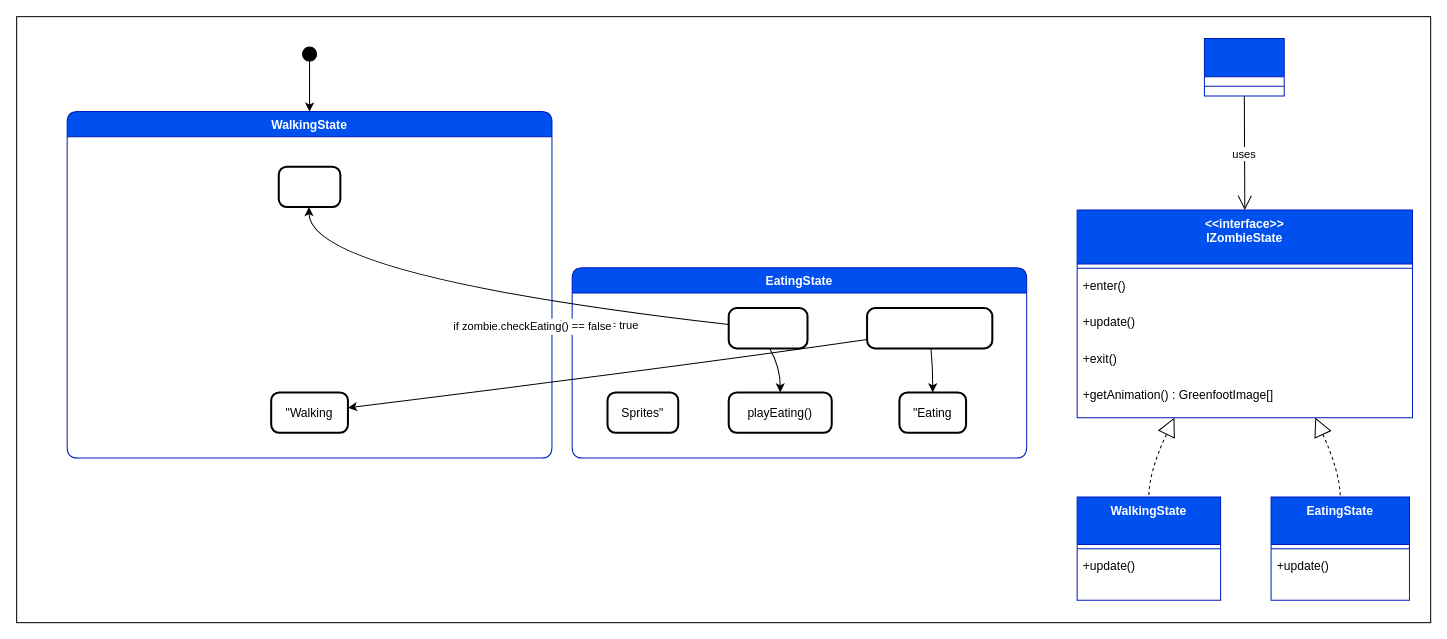
This 1447x639 diagram has some shape labels left out. Each missing label, with the centre of its shape:
getAnimation(): [929,328]
update(): [767,328]
walk(): [309,186]
Zombie: [1243,66]
